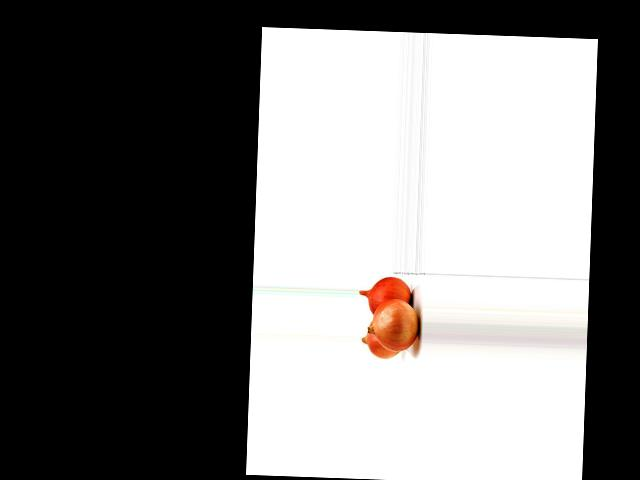onion: (362, 275, 415, 317)
